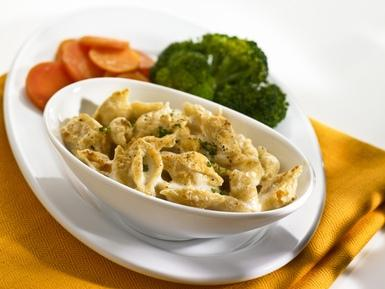broccoli: (148, 38, 218, 102), (213, 76, 289, 128), (202, 33, 269, 91)
carrot: (25, 61, 73, 111), (60, 39, 105, 82), (88, 46, 141, 76), (130, 48, 155, 77), (80, 36, 129, 48), (116, 70, 151, 82)
